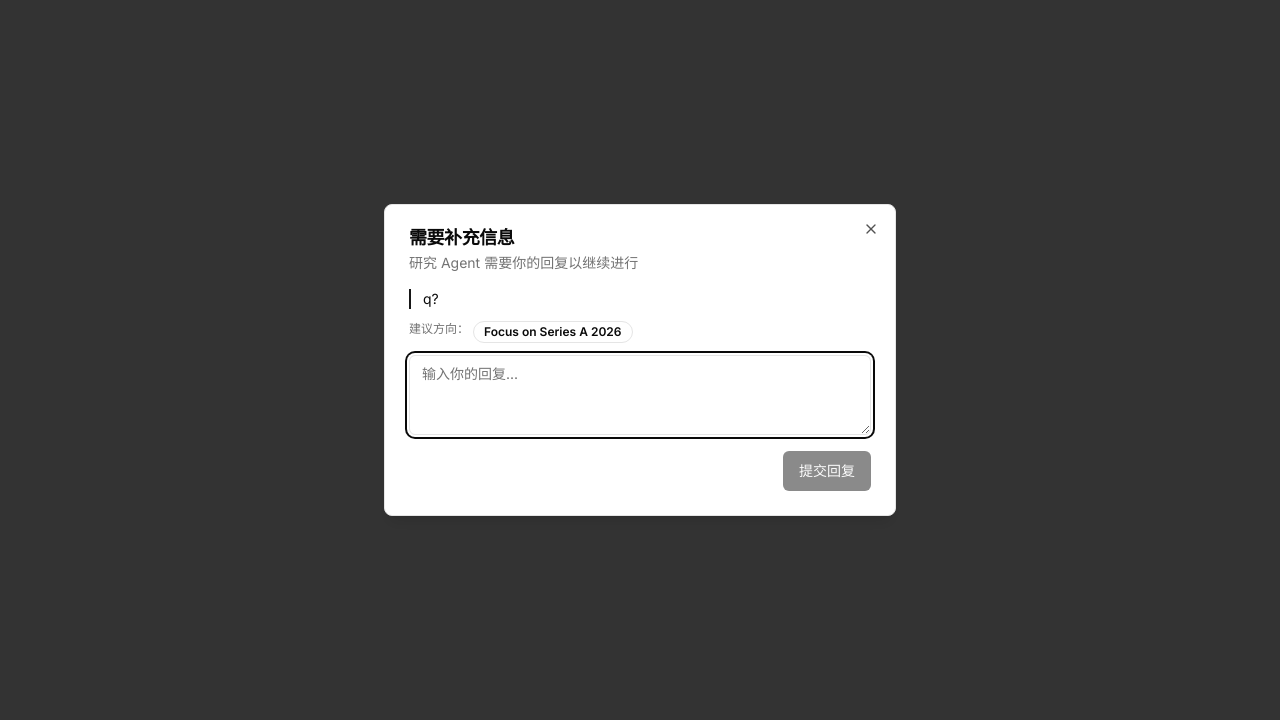
Test: <ClarificationDialog /> (6.7.3) › clicking a suggested-direction badge populates the textarea
This screenshot has width=1280, height=720.
Click the text "Focus on Series A 2026".
click(553, 332)  # box [473, 321, 632, 343]
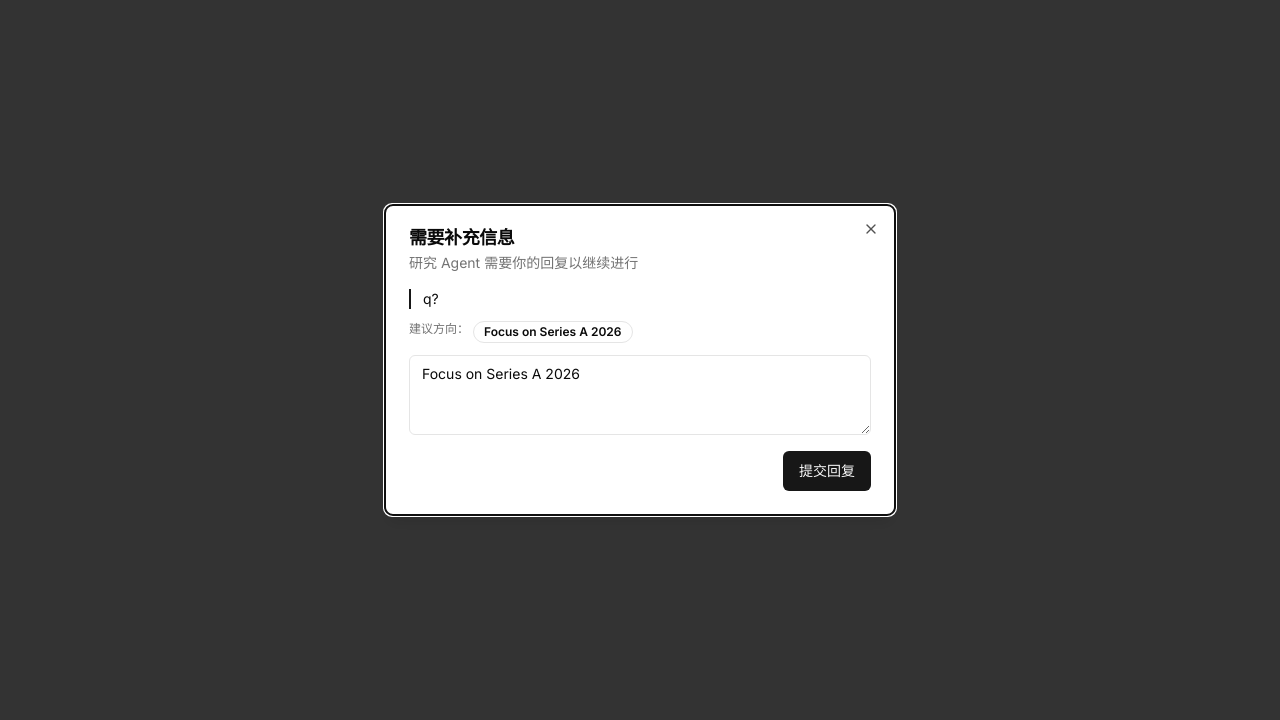
Result: the text box with placeholder "输入你的回复..." holds "Focus on Series A 2026" at [409, 355, 871, 435]
